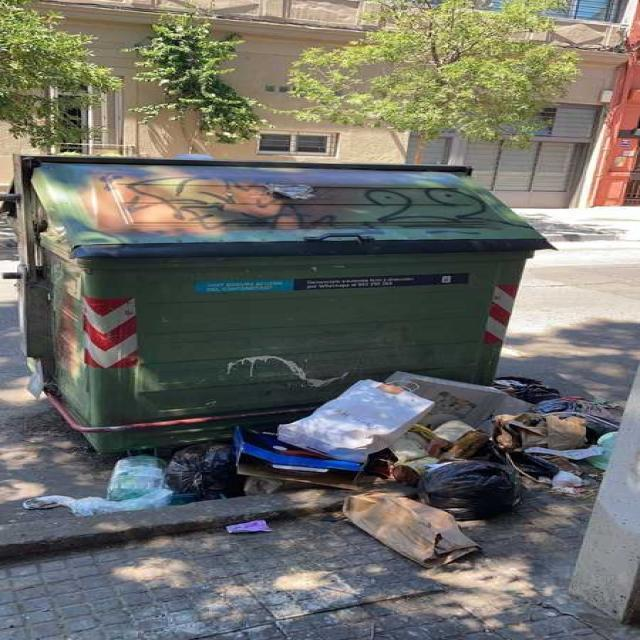high trash: (24, 371, 621, 566)
less trash: (226, 520, 271, 534)
